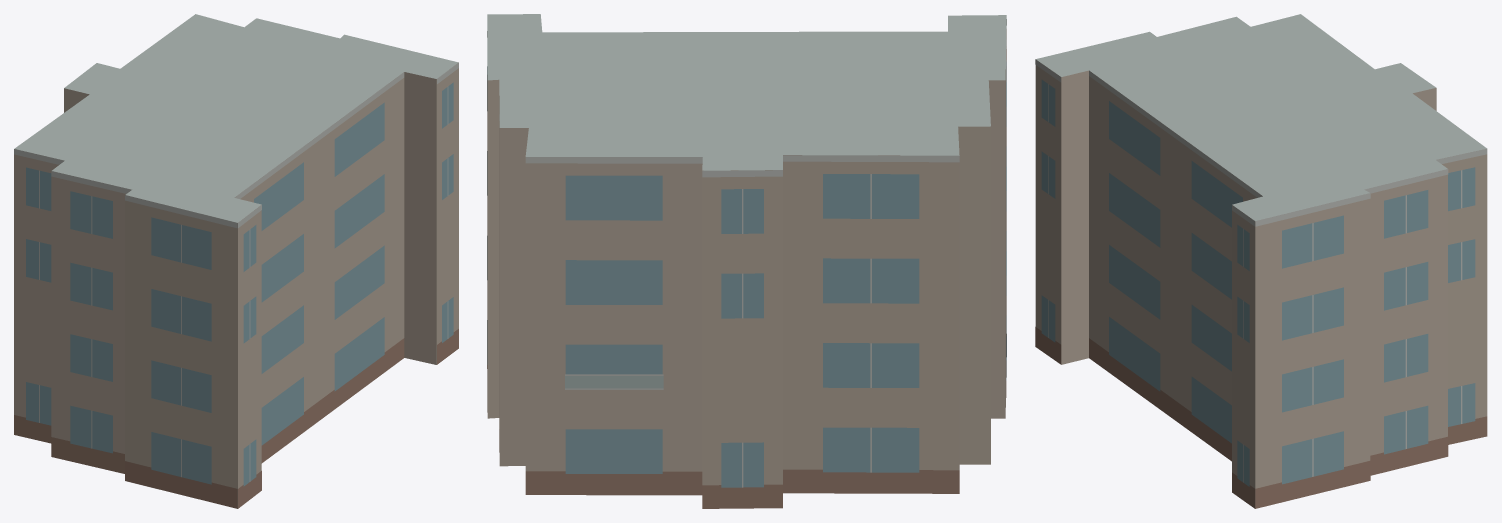
The model's file is survey-upis-32601936.glb.
3 renders of one model, left to right at view 1: azimuth 30°, elevation 25°; view 2: azimuth 150°, elevation 25°; view 3: azimuth 270°, elevation 25°, orthographic. The views are drawn at different scales.
Parts seen in each view (by area): view 1: survey-upis-32601936.tmp; view 2: survey-upis-32601936.tmp; view 3: survey-upis-32601936.tmp.
Part boxes in pixels (x1,y1,x2,y2): survey-upis-32601936.tmp: [14, 14, 458, 508]; survey-upis-32601936.tmp: [487, 14, 1006, 508]; survey-upis-32601936.tmp: [1035, 14, 1487, 508].
Size of the model in its own units: 19.32 by 12.5 by 17.8.
